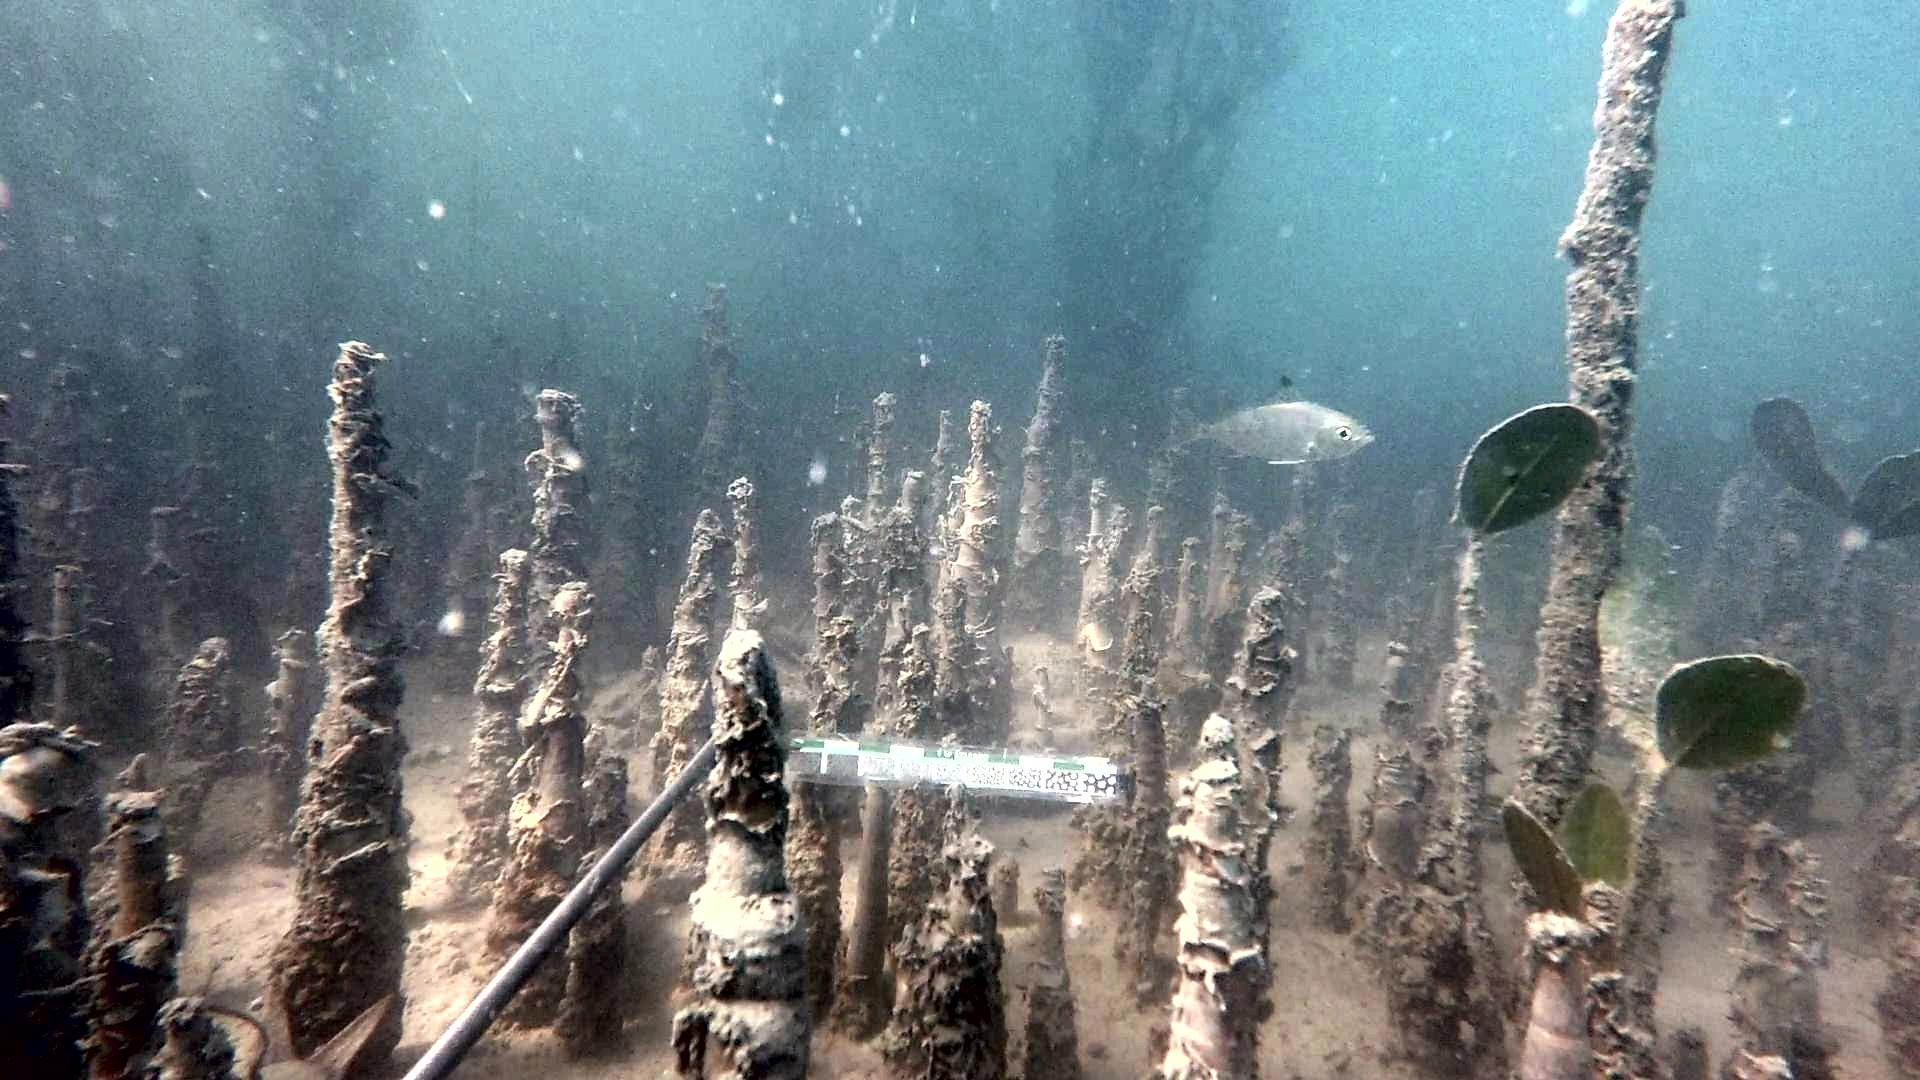gerres: (1166, 373, 1379, 467)
